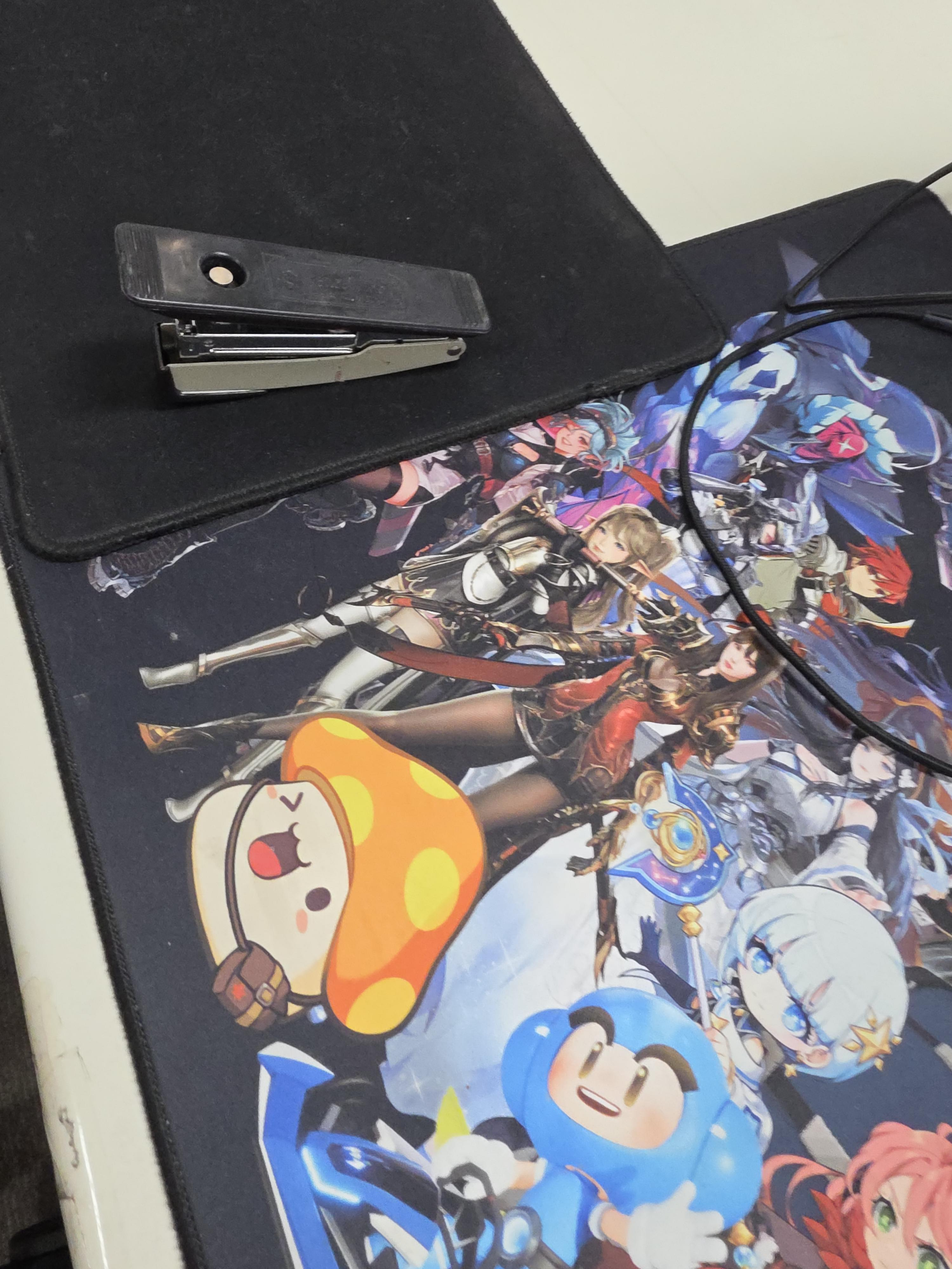stapler: (114, 222, 493, 400)
